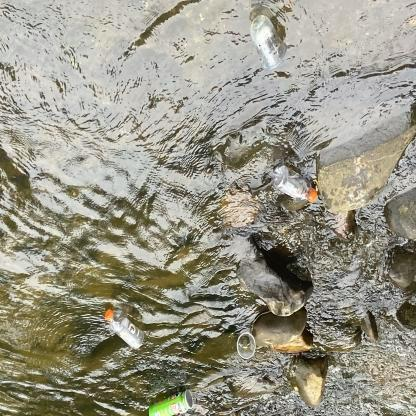Metal: (146, 386, 196, 416)
Plastic: (248, 9, 290, 73), (266, 160, 322, 206), (100, 304, 148, 353), (234, 324, 258, 361)
